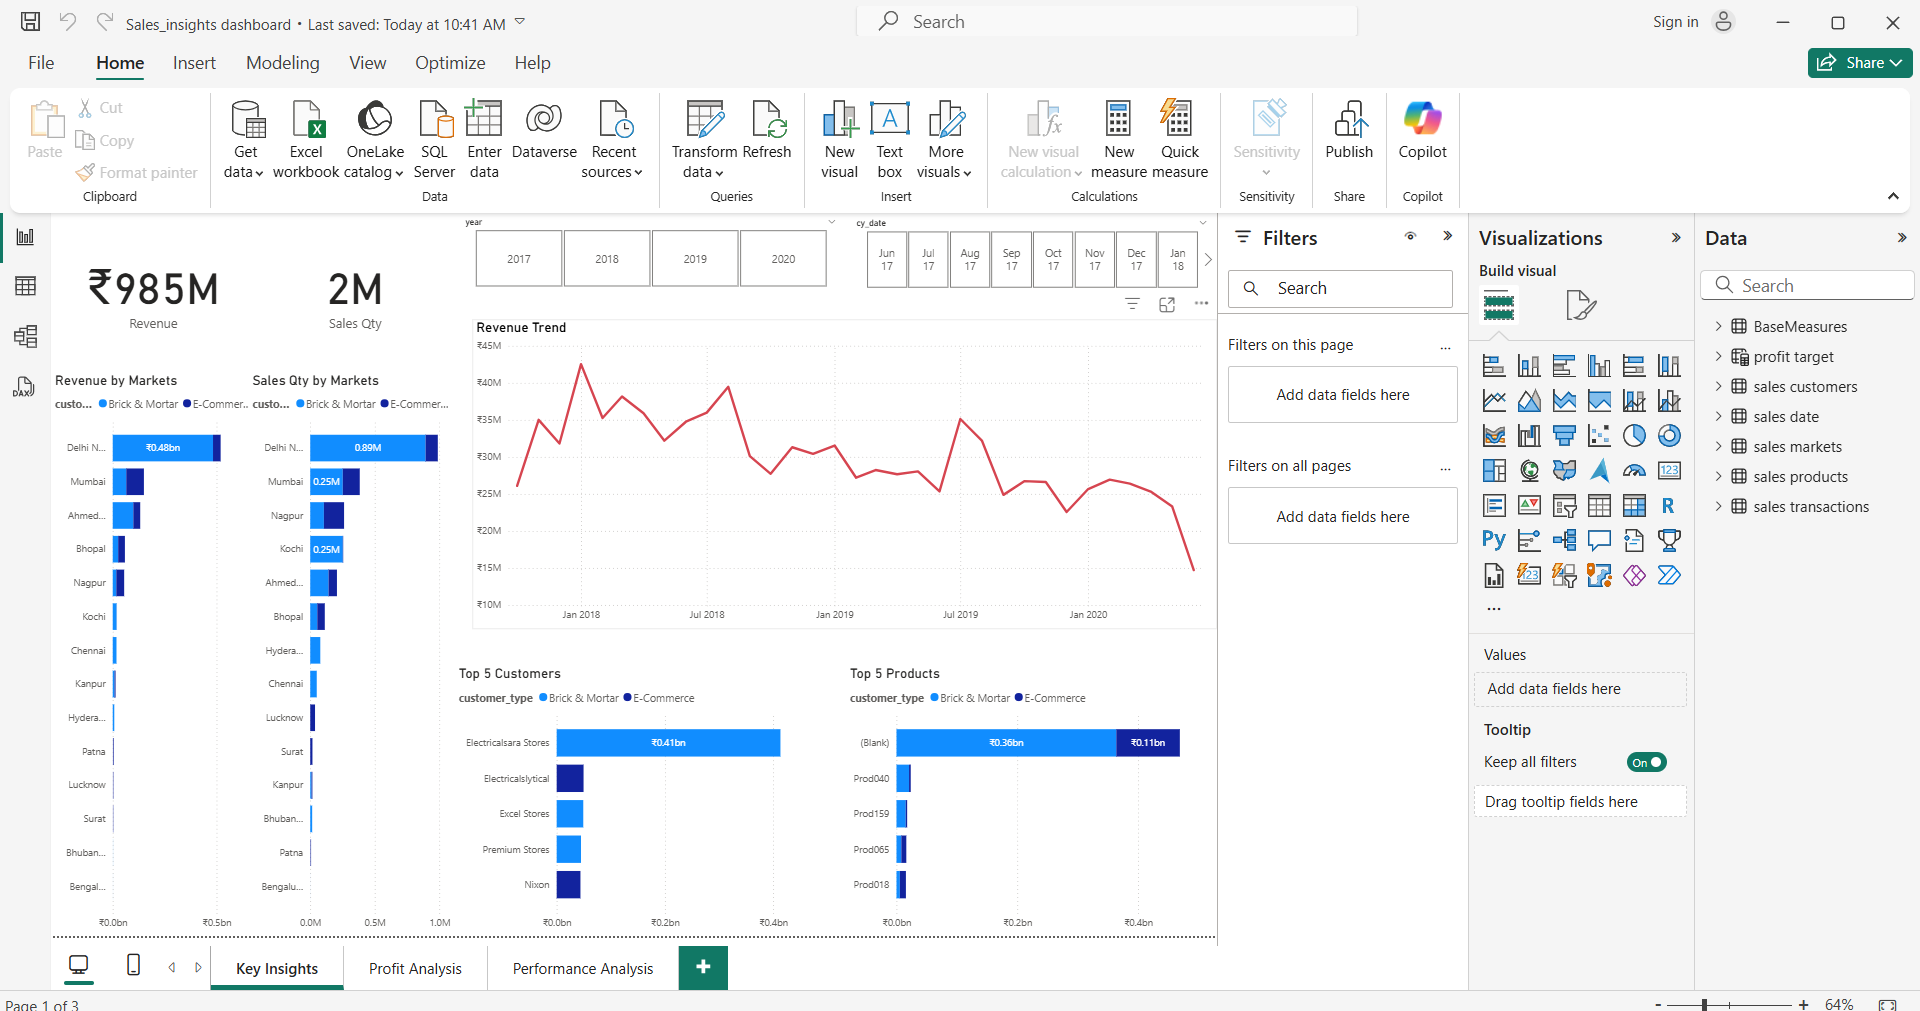

This screenshot's page, from the dashboard's own definition file:
{"tool":"powerbi","page":{"name":"Key Insights","canvas":[1450,900],"ordinal":0},"visuals":[{"type":"card","fields":{"Values":["BaseMeasures.Revenue"]},"box":[0,0,255,197.5],"z":0},{"type":"card","fields":{"Values":["BaseMeasures.Sales Qty"]},"box":[255,0,247.2,197.5],"z":1000},{"type":"barChart","title":"Revenue by Markets","fields":{"Y":["BaseMeasures.Revenue"],"Category":["sales markets.markets_name"],"Series":["sales customers.customer_type"]},"box":[0,197.5,255,702.8],"z":2000},{"type":"barChart","title":"Sales Qty by Markets","fields":{"Y":["BaseMeasures.Sales Qty"],"Category":["sales markets.markets_name"],"Series":["sales customers.customer_type"]},"box":[245.7,197.5,256.6,702.8],"z":3000},{"type":"slicer","fields":{"Values":["sales date.year"]},"box":[502.2,0,486.7,98],"z":4000},{"type":"slicer","fields":{"Values":["sales date.cy_date"]},"box":[988.9,1.6,461.8,98],"z":5000},{"type":"barChart","title":"Top 5 Customers","fields":{"Y":["BaseMeasures.Revenue"],"Category":["sales customers.custmer_name"],"Series":["sales customers.customer_type"]},"box":[502.2,562.9,486.7,337.4],"z":6000},{"type":"barChart","title":"Top 5 Products","fields":{"Y":["BaseMeasures.Revenue"],"Category":["sales products.product_code"],"Series":["sales customers.customer_type"]},"box":[988.9,562.9,461.8,337.4],"z":7000},{"type":"lineChart","title":"Revenue Trend","fields":{"Y":["BaseMeasures.Revenue"],"Category":["sales date.cy_date"]},"box":[524,132.2,926.7,385.6],"z":8000}]}

Visuals, with their boxes on the page's 1450x900 design canvas (x1, y1, x2, y2). These are canvas units, not pixel positions in the 1920x1011 screenshot, which may show the page scaled, cropped or inside an application window:
card - BaseMeasures.Revenue: x1=0, y1=0, x2=255, y2=198
card - BaseMeasures.Sales Qty: x1=255, y1=0, x2=502, y2=198
"Revenue by Markets" barChart: x1=0, y1=198, x2=255, y2=900
"Sales Qty by Markets" barChart: x1=246, y1=198, x2=502, y2=900
slicer - sales date.year: x1=502, y1=0, x2=989, y2=98
slicer - sales date.cy_date: x1=989, y1=2, x2=1451, y2=100
"Top 5 Customers" barChart: x1=502, y1=563, x2=989, y2=900
"Top 5 Products" barChart: x1=989, y1=563, x2=1451, y2=900
"Revenue Trend" lineChart: x1=524, y1=132, x2=1451, y2=518
